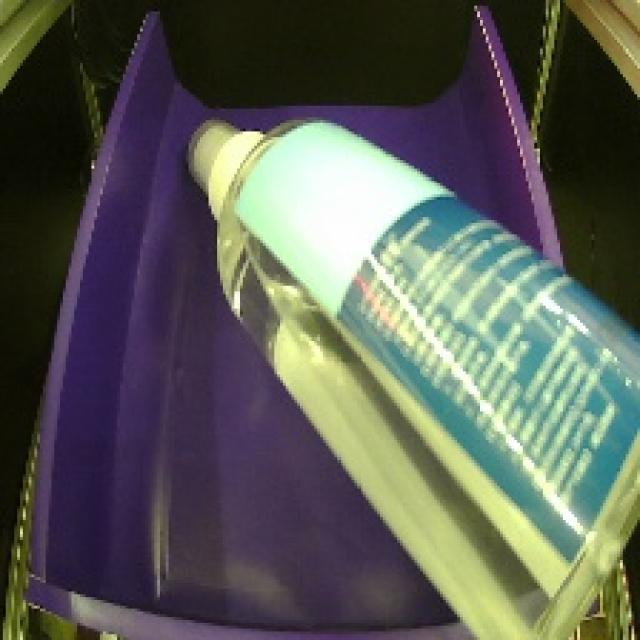plastic: (163, 91, 640, 639)
